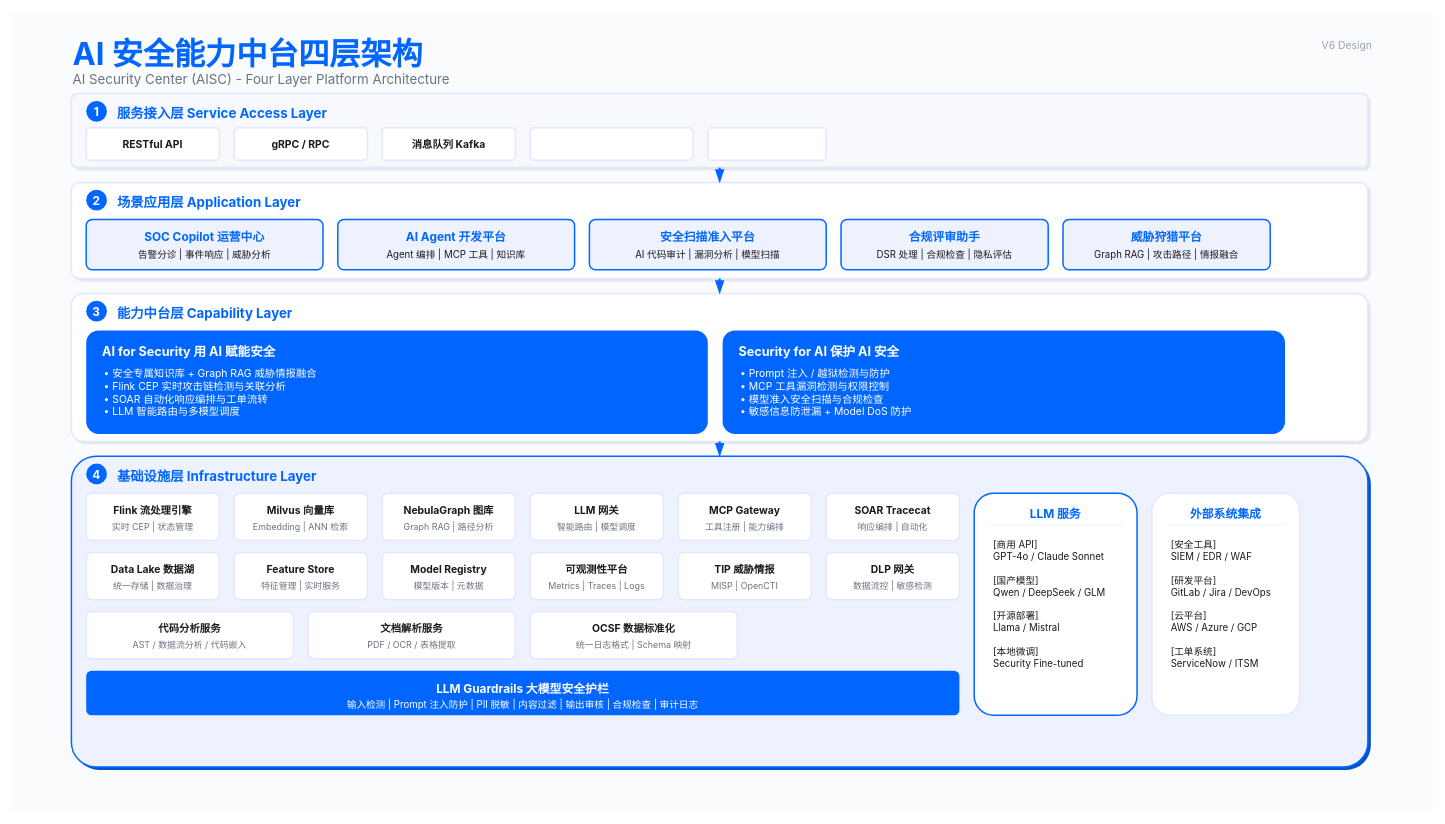
This 1445x824 diagram has some shape labels left out. The shapes that lost their labels are listed below. From the top down, each one's centre as x and y in pixels, then its label:
At point 611,144: "平台集成 SIEM/SOAR".
At point 767,144: "SDK / CLI".
